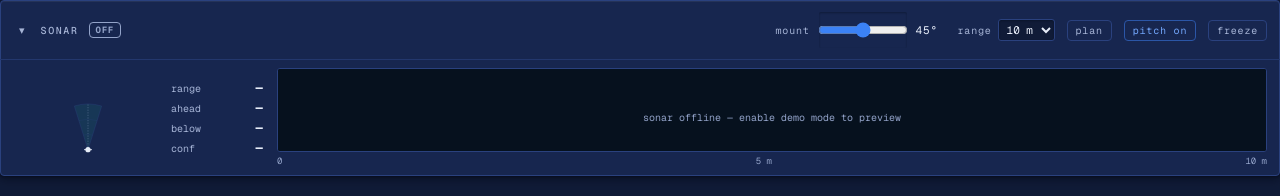
Test case: SonarView › toggles pitch correction and freeze
Click the button "pitch on" at (1160, 30), box [1124,20,1196,40]
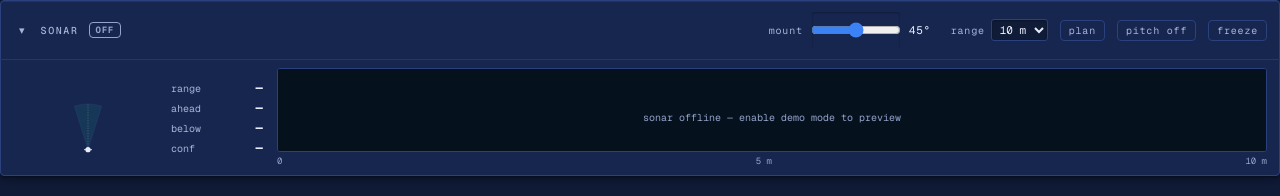
Result: the button "pitch off" is shown at [1117,20,1196,40]
Click the button "freeze" at (1238, 30), box [1208,20,1267,40]
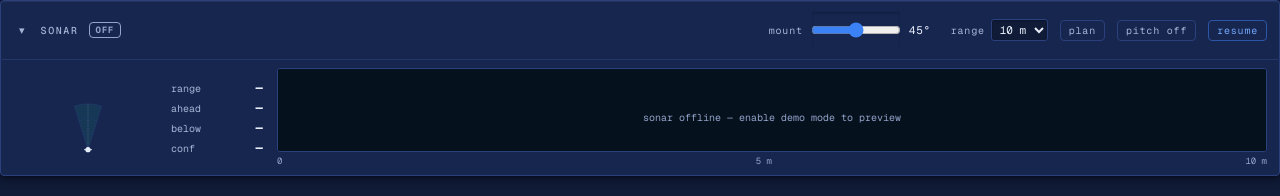
Result: the button "resume" is shown at [1208,20,1267,40]
